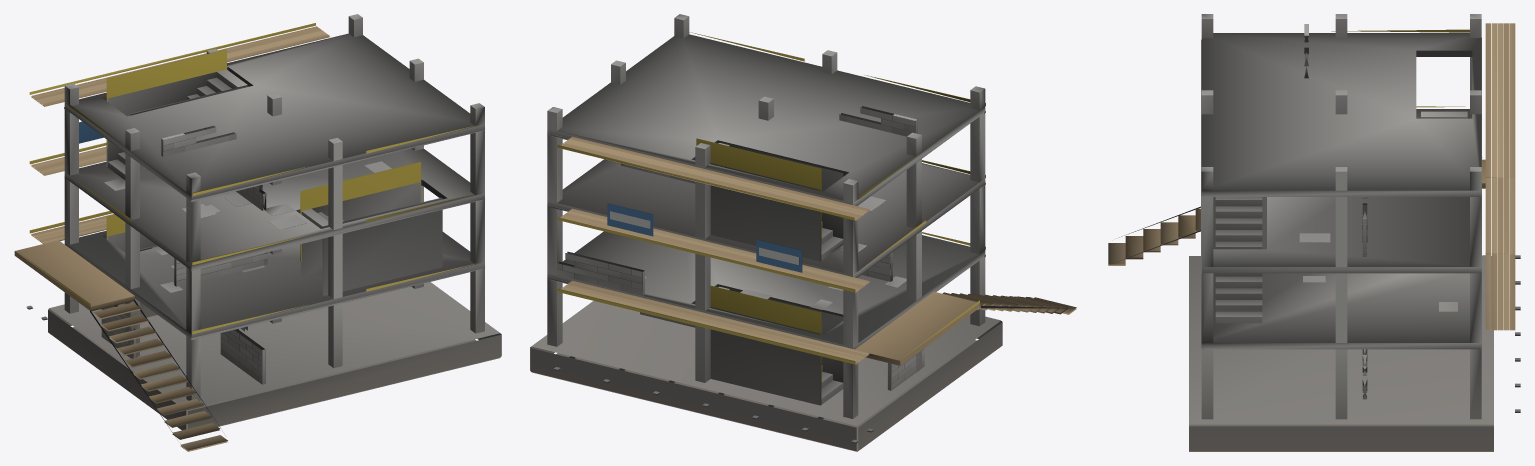
The model's file is tower2.lod.glb.
3 renders of one model, left to right at view 1: azimuth 30°, elevation 25°; view 2: azimuth 150°, elevation 25°; view 3: azimuth 270°, elevation 25°, orthographic. The views are drawn at different scales.
Visible parts, largest first — view 1: tower2; view 2: tower2; view 3: tower2.
Part boxes in pixels (x1,y1,x2,y2): tower2: [14, 14, 501, 451]; tower2: [530, 14, 1076, 451]; tower2: [1108, 14, 1520, 451].
Size of the model in its own units: 19.25 by 13.12 by 17.68.
